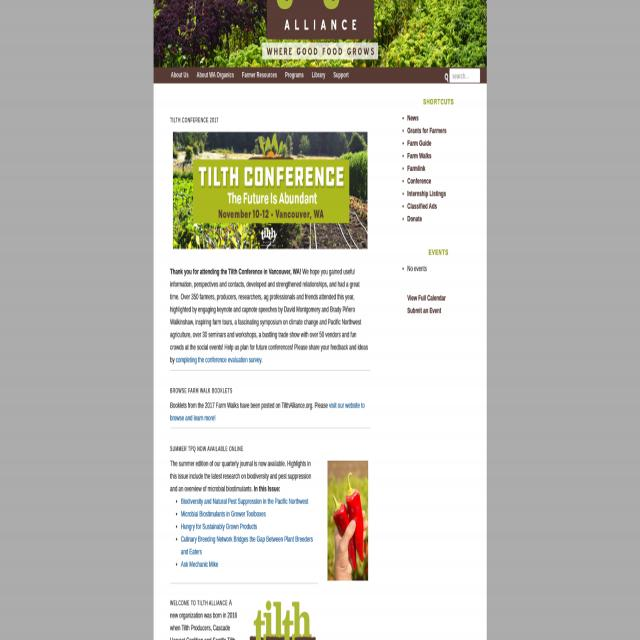button: (171, 128, 369, 252), (326, 461, 370, 580)
field: (449, 68, 480, 83), (444, 72, 449, 84)
